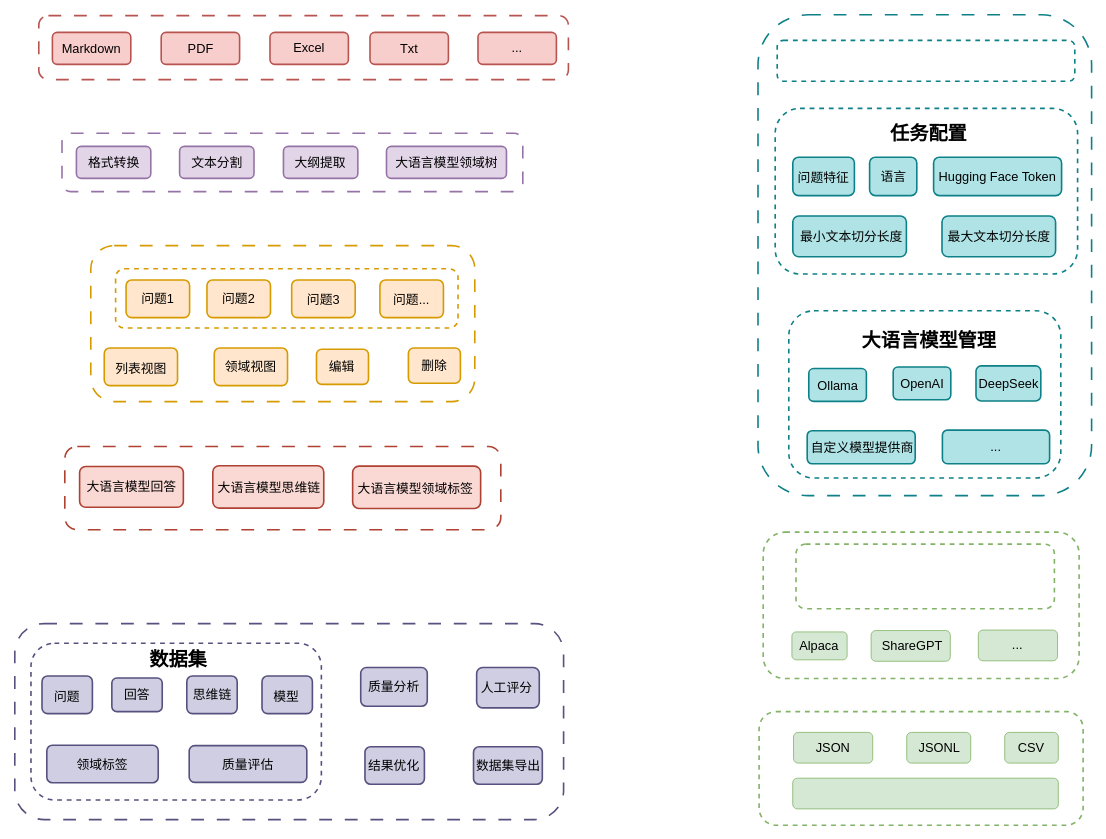
This 1106x839 diagram has some shape labels left out. The centre of each missing label's shape, as x and y in pixels:
"Upload Hugging Face" goes at point 925,793.
"系统提示词" goes at point 925,576.
"项目基本信息" goes at point 925,60.
